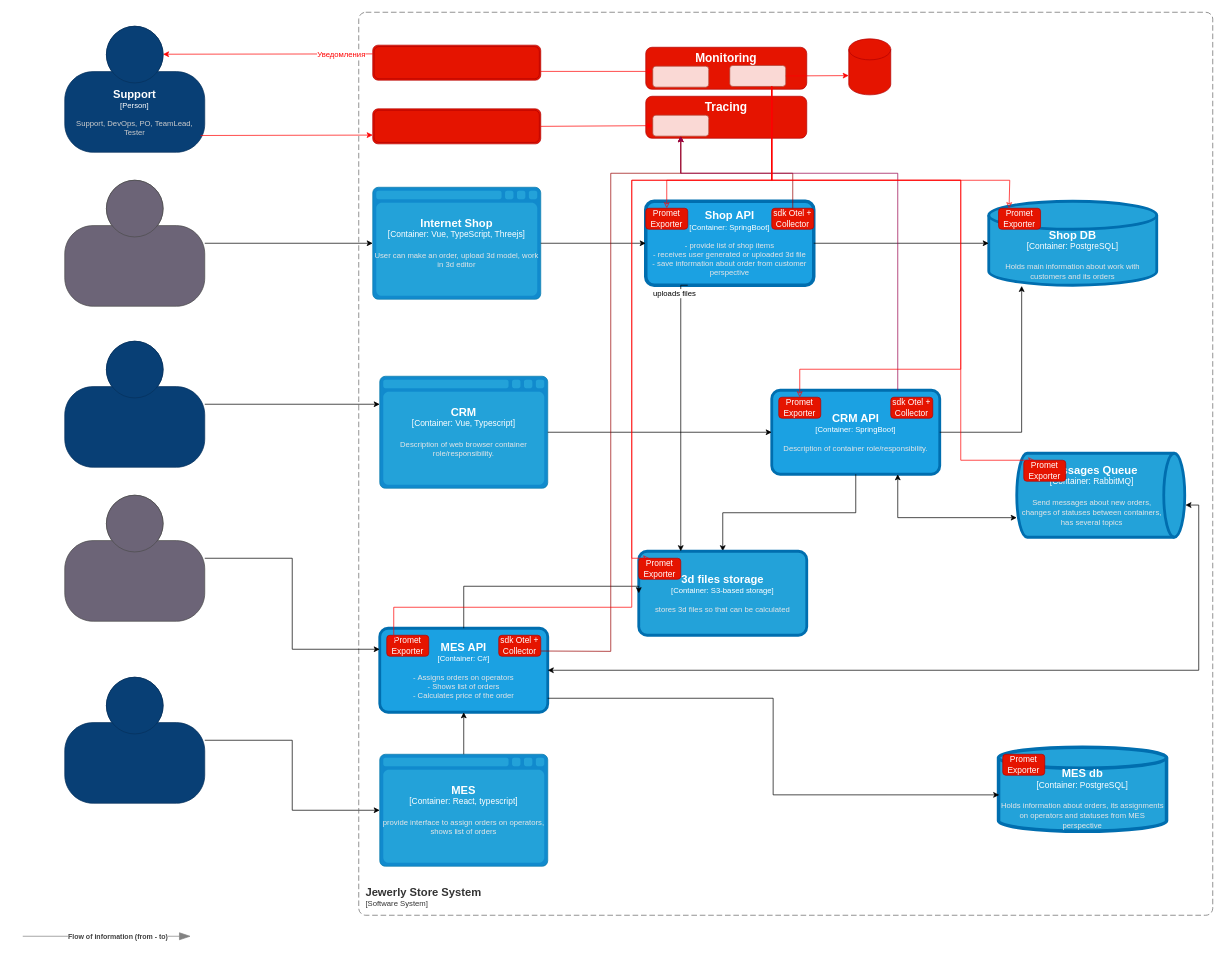
Image size: 1225x960. Some labels were removed from this diagram. The centre of each missing label's shape, as x and y in pixels:
API user [Person] Description of external person.: point (134, 558)
Customer [Person] Description of external person.: point (134, 243)
Grafana: point (680, 76)
Grafana UI: point (456, 62)
Jagger: point (680, 125)
Jagger UI: point (456, 126)
Operator [Person] Takes order in work, manufactures jewerly: point (134, 740)
Prometheus: point (757, 75)
Seller [Person] Operates with order, confirms manufacturing for the user: point (134, 404)
TDSM: point (869, 66)
